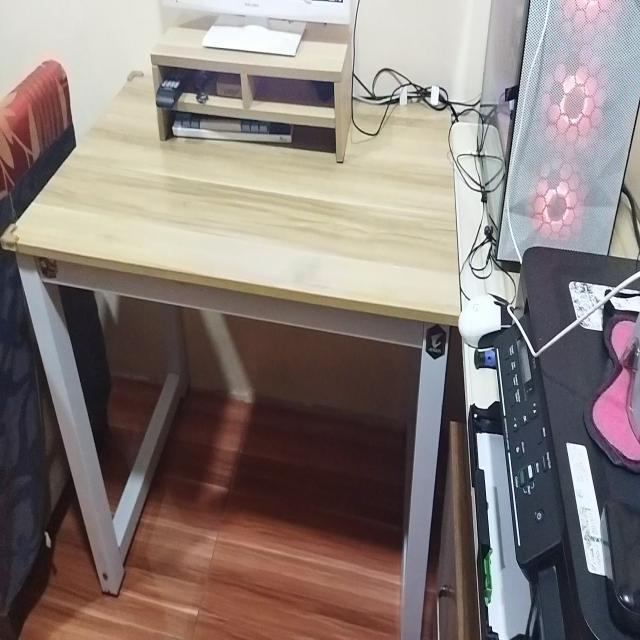table: (19, 65, 452, 640)
